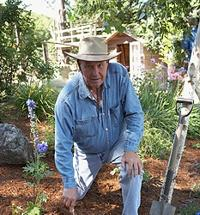person: (55, 37, 145, 215)
